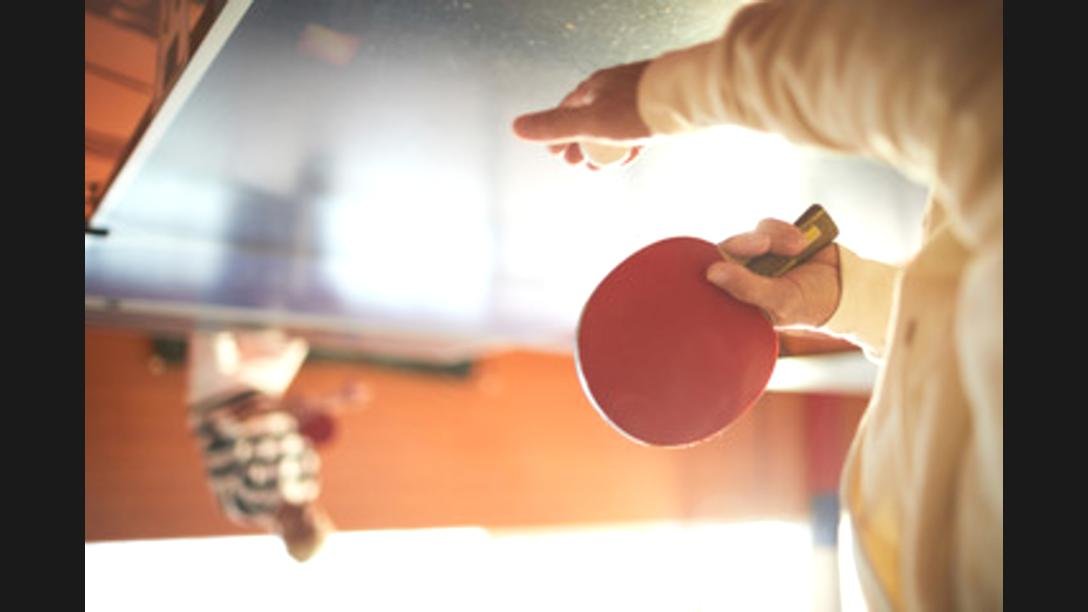Table-Tennis-Ball: (582, 138, 630, 170)
